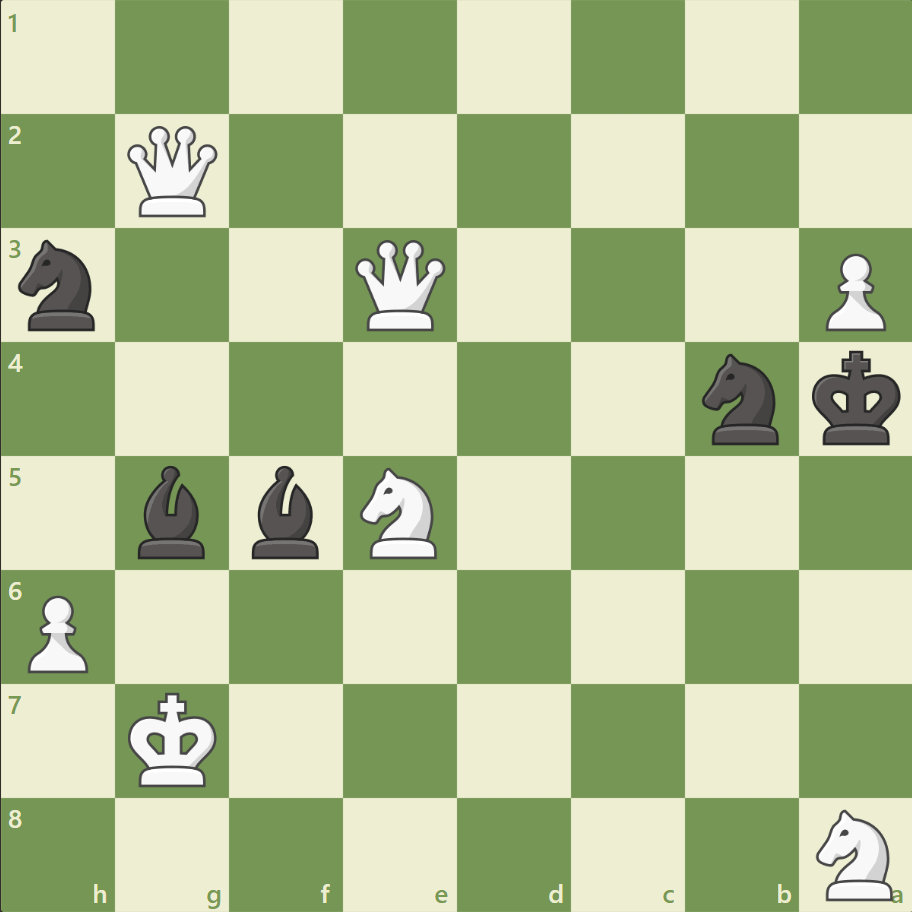K: (124, 685, 224, 793)
N: (351, 461, 449, 564), (806, 802, 903, 904)
P: (20, 586, 95, 677), (815, 246, 889, 337)
Q: (124, 122, 223, 222), (351, 236, 450, 335)
b: (244, 460, 328, 563), (131, 460, 215, 563)
k: (806, 344, 906, 452)
n: (11, 234, 108, 337), (692, 348, 789, 450)
